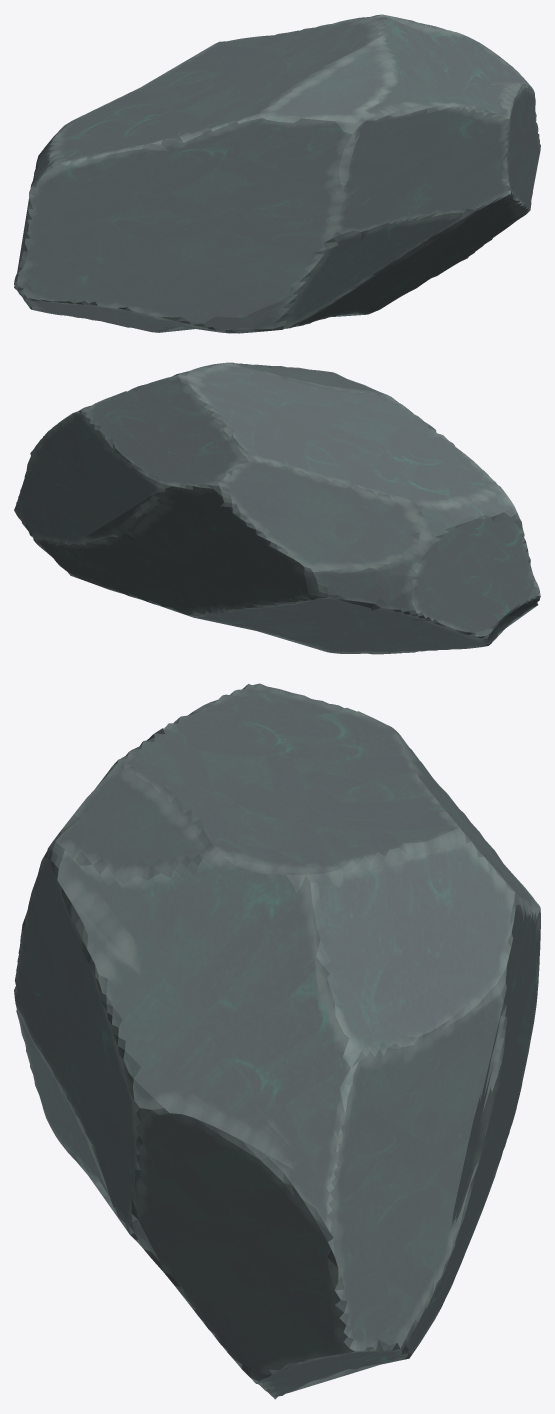
File: Asset_stone03.fbx
3 views of the same model, one above another, from view 1: azimuth 30°, elevation 25°; view 2: azimuth 150°, elevation 25°; view 3: azimuth 270°, elevation 25° (orthographic). The views are drawn at different scales.
Parts seen in each view (by area): view 1: stone3; view 2: stone3; view 3: stone3.
Boxes of the visible parts, x1,y1,x2,y2 form: stone3: [14, 14, 540, 333]; stone3: [14, 362, 540, 654]; stone3: [14, 683, 540, 1399].
Size of the model in its own units: 121 by 57.55 by 56.18.
